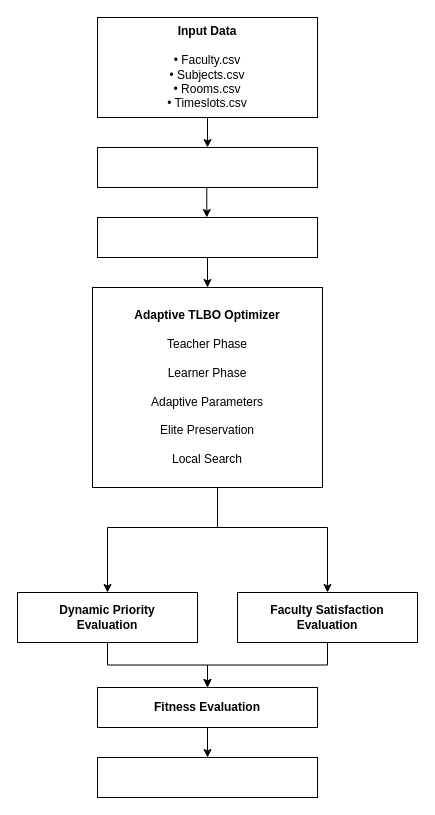
Some shapes in this 435 by 815 pixel diagram are drawn without their labels. Here are the shapes that lost their labels. From the top down, the centre of each, then its label:
At point (207, 167): "Data Preparation".
At point (207, 237): "Timetable Generator".
At point (207, 777): "Optimized Timetable".
